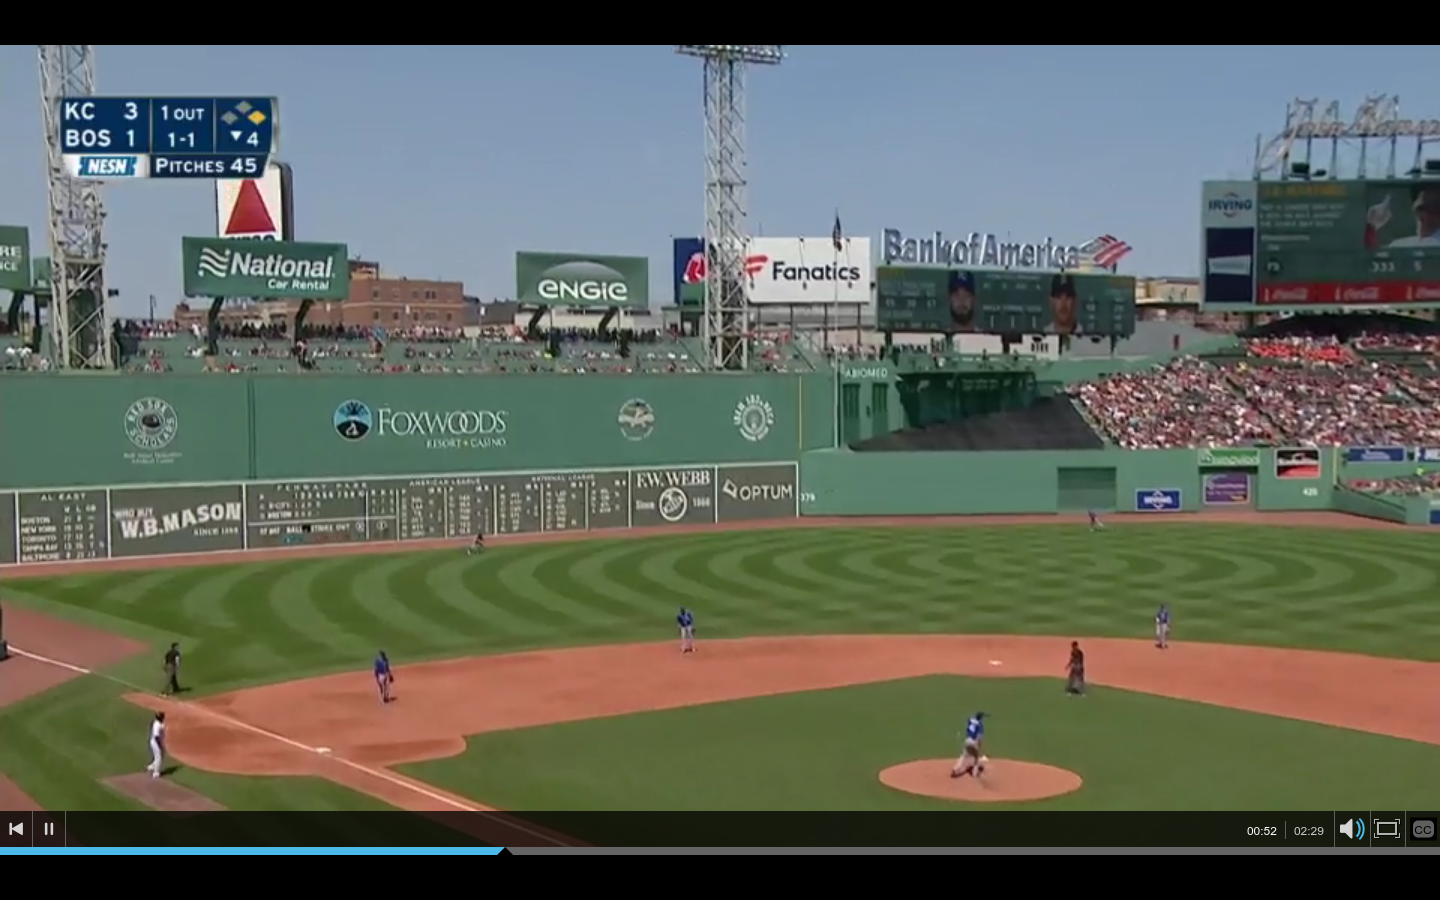baseball player: (955, 712, 990, 783), (139, 709, 173, 782), (368, 648, 402, 706), (1148, 600, 1178, 652), (672, 606, 698, 657), (1085, 505, 1108, 543), (465, 531, 488, 556)
referee: (1062, 636, 1092, 702), (158, 640, 187, 700)
